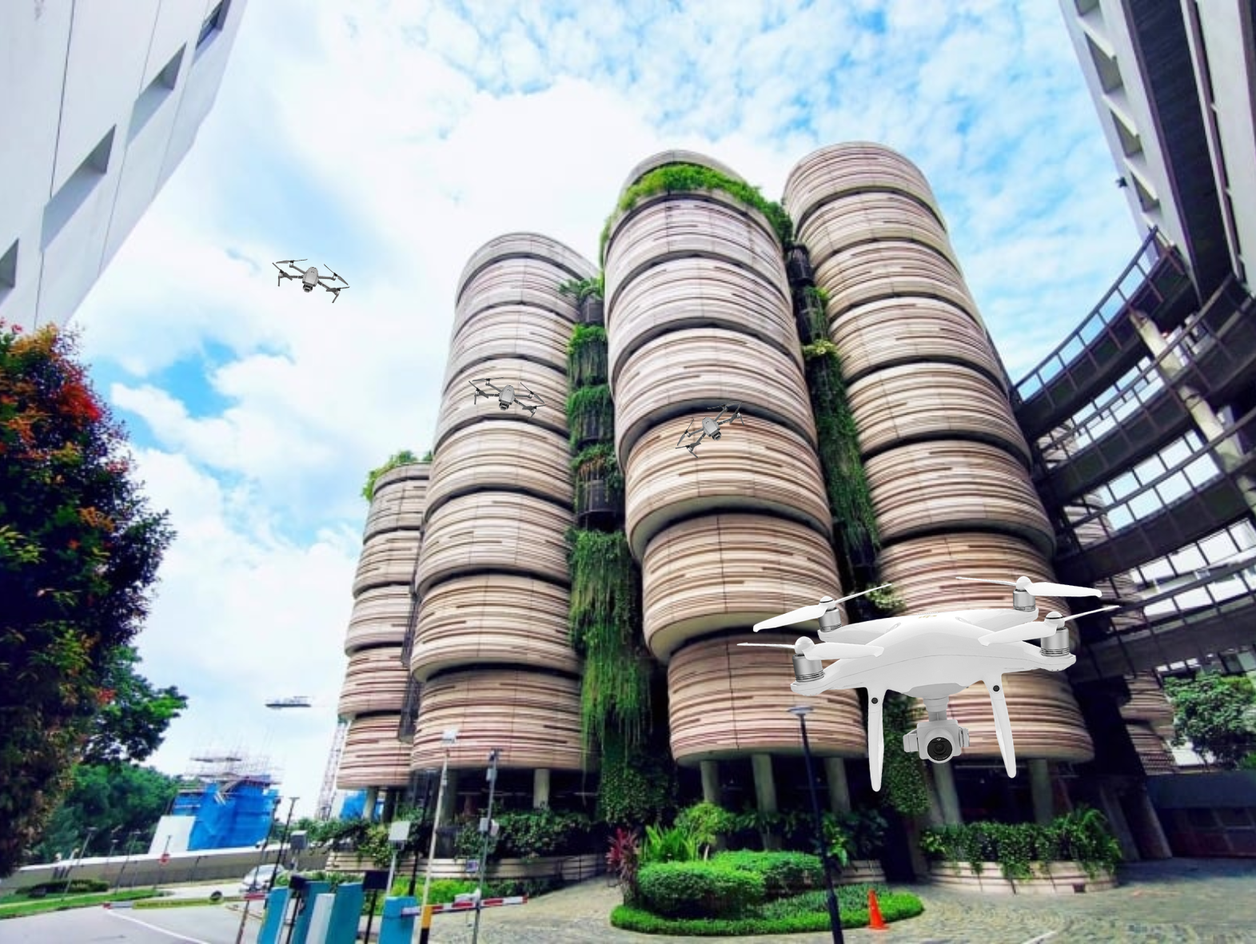drone_other: (739, 569, 1121, 796), (675, 395, 747, 467), (268, 251, 352, 307), (466, 368, 544, 424)
